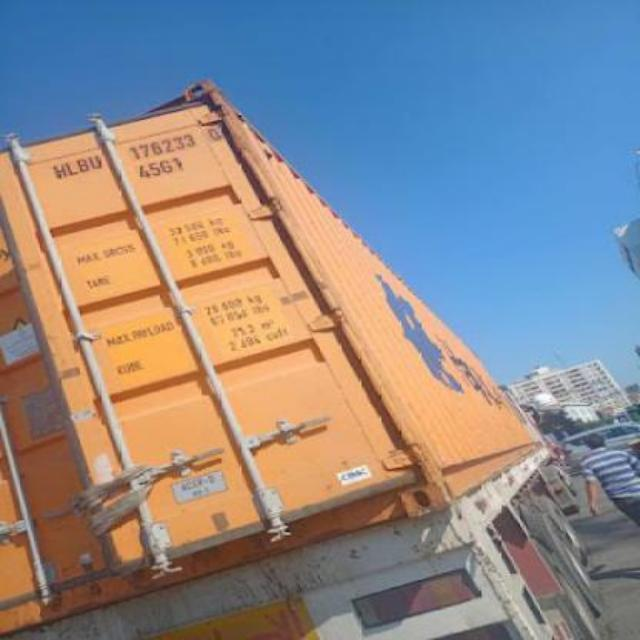0: (205, 126, 221, 142)
1: (126, 143, 138, 161)
2: (160, 134, 172, 154)
3: (181, 128, 197, 152), (170, 133, 182, 151)
6: (148, 139, 160, 157)
7: (138, 143, 150, 159)
B: (74, 156, 88, 172)
H: (52, 163, 68, 179)
L: (64, 160, 76, 176)
U: (88, 156, 104, 168)
